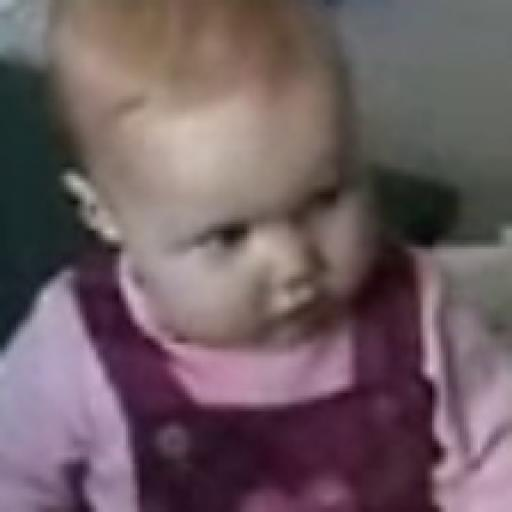Autism: (35, 0, 416, 431)
